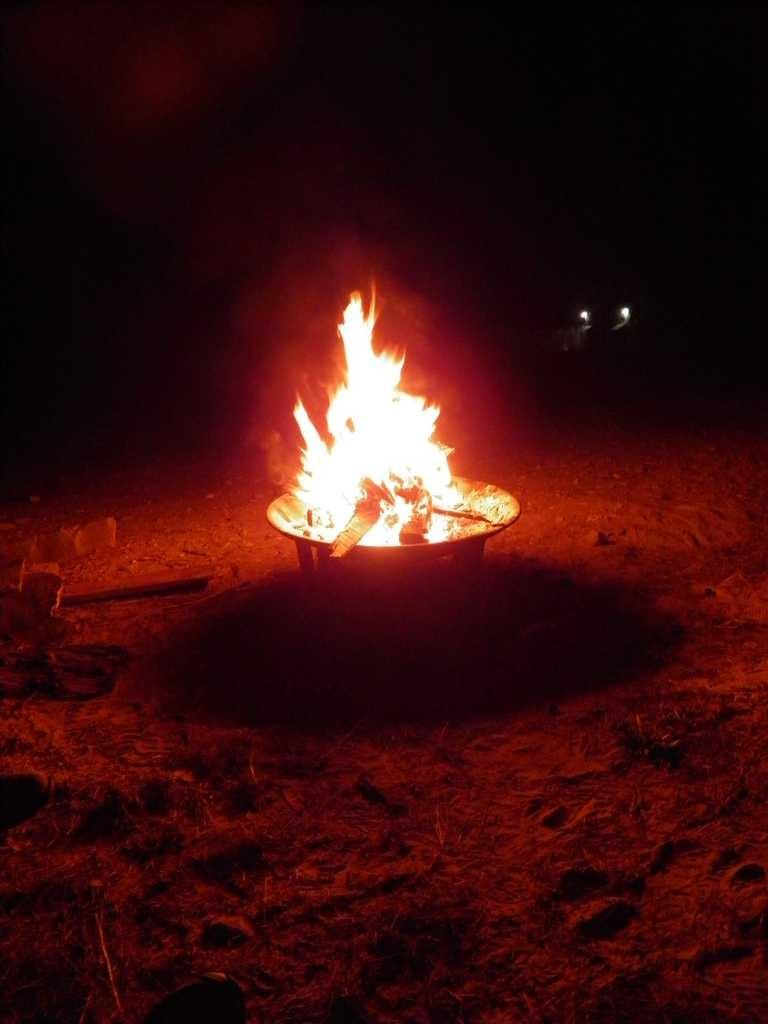fire: (335, 402, 438, 522)
